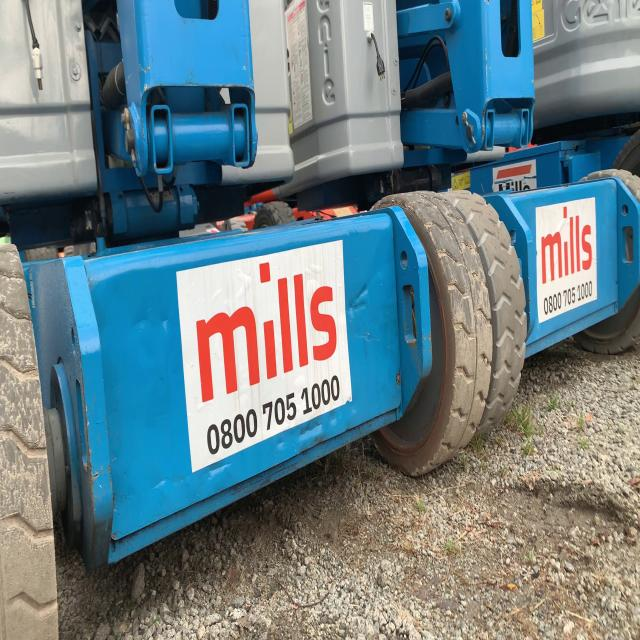Adesivos: (170, 234, 358, 481), (535, 195, 600, 327)
